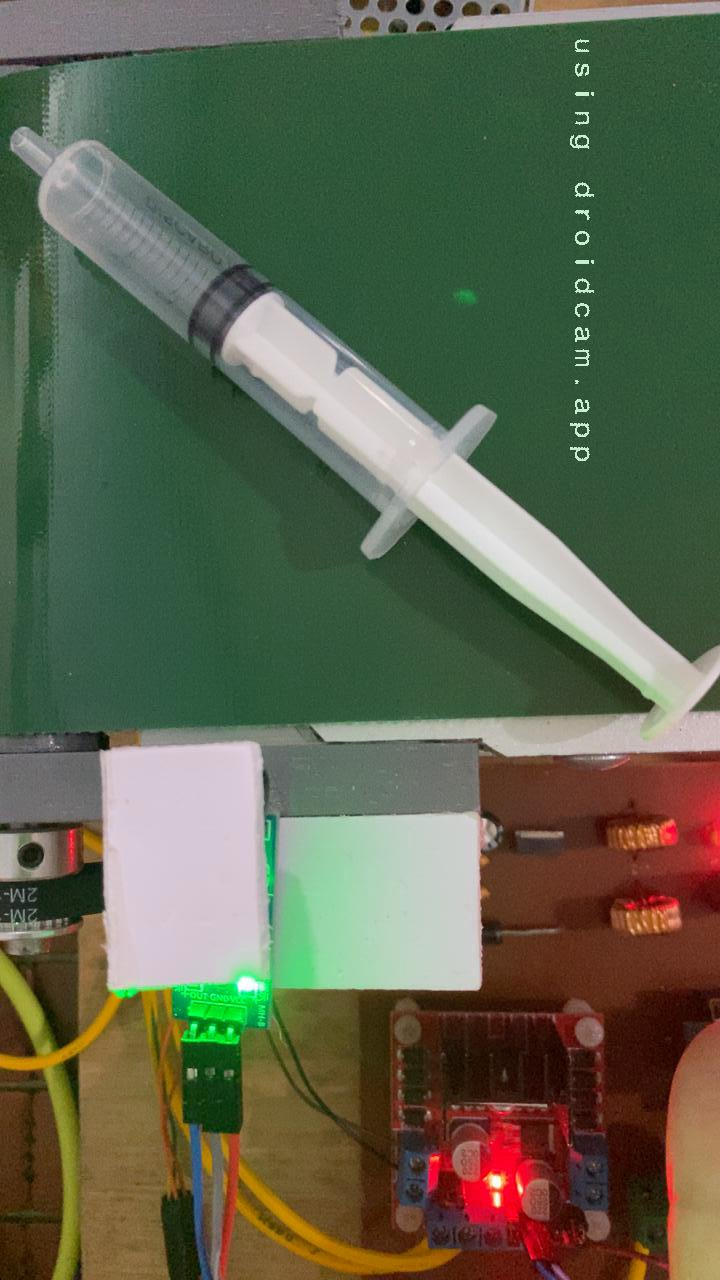syringe: (0, 30, 720, 723)
